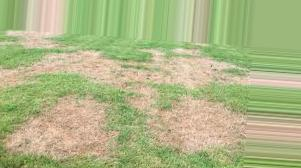patch: (40, 102, 113, 158), (171, 99, 232, 155), (164, 50, 220, 87), (118, 72, 163, 115), (52, 55, 112, 78), (18, 30, 54, 55), (1, 65, 30, 88), (34, 63, 63, 80), (15, 127, 33, 151)
